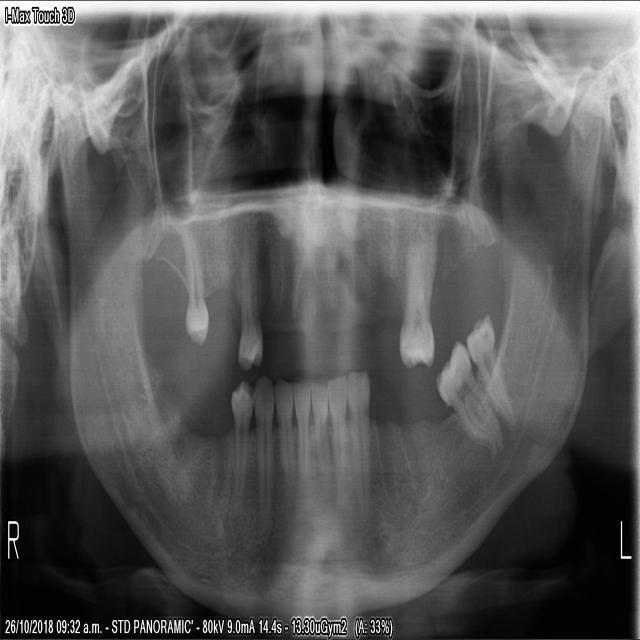LCD: (344, 365, 372, 487)
LID: (323, 368, 349, 474), (308, 377, 331, 469)
LMD: (433, 331, 505, 455), (463, 311, 515, 432)
LMU: (394, 246, 437, 371)
RCD: (250, 371, 274, 516)
RID: (272, 378, 295, 479), (290, 374, 311, 474)
RMU: (181, 236, 210, 351)
RPMD: (227, 373, 256, 496)
RPMU: (235, 246, 264, 372)
